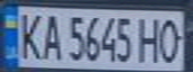4: (100, 14, 121, 62)
5: (115, 14, 139, 63), (63, 11, 84, 61)
6: (81, 12, 103, 62)
A: (39, 10, 63, 61)
H: (136, 14, 163, 63)
K: (12, 9, 45, 61)
O: (157, 15, 184, 64)
